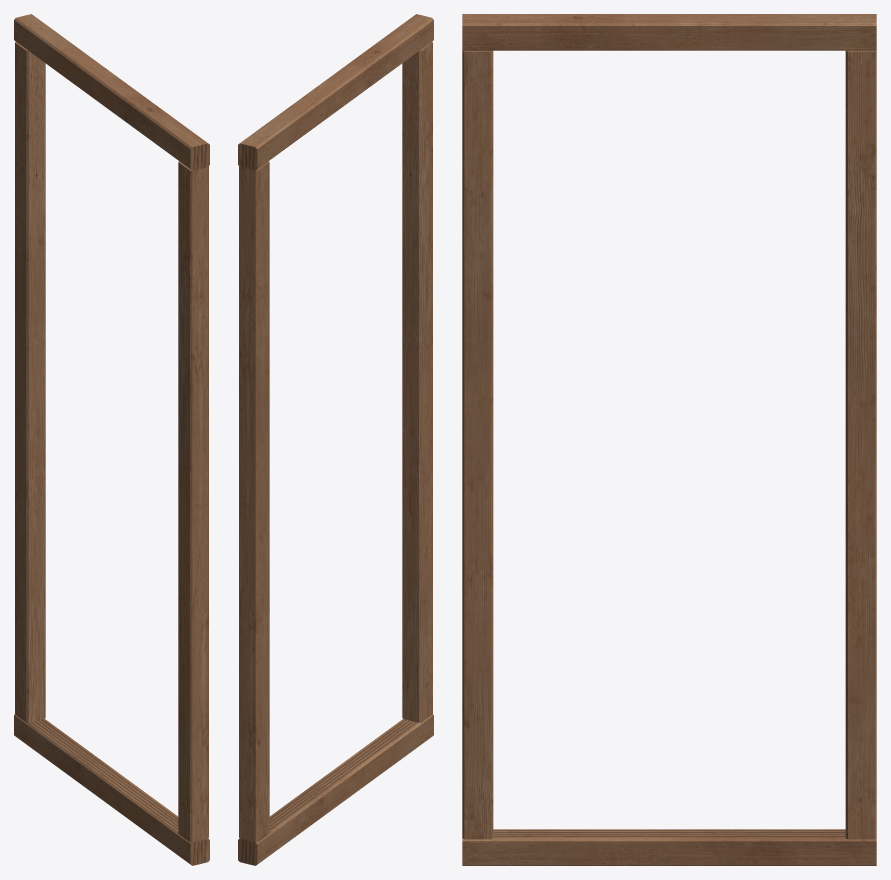
Rendered from SM_Gyedong_Frame_05A.fbx.
3 views of the same model, side by side, from view 1: azimuth 30°, elevation 25°; view 2: azimuth 150°, elevation 25°; view 3: azimuth 270°, elevation 25° (orthographic). The views are drawn at different scales.
Parts seen in each view (by area): view 1: SM_Gyedong_Frame_05A; view 2: SM_Gyedong_Frame_05A; view 3: SM_Gyedong_Frame_05A.
Boxes of the visible parts, x1,y1,x2,y2 form: SM_Gyedong_Frame_05A: (14,14,209,865); SM_Gyedong_Frame_05A: (238,14,433,865); SM_Gyedong_Frame_05A: (462,14,876,865).
Size of the model in its own units: 5.94 by 213 by 94.8.
